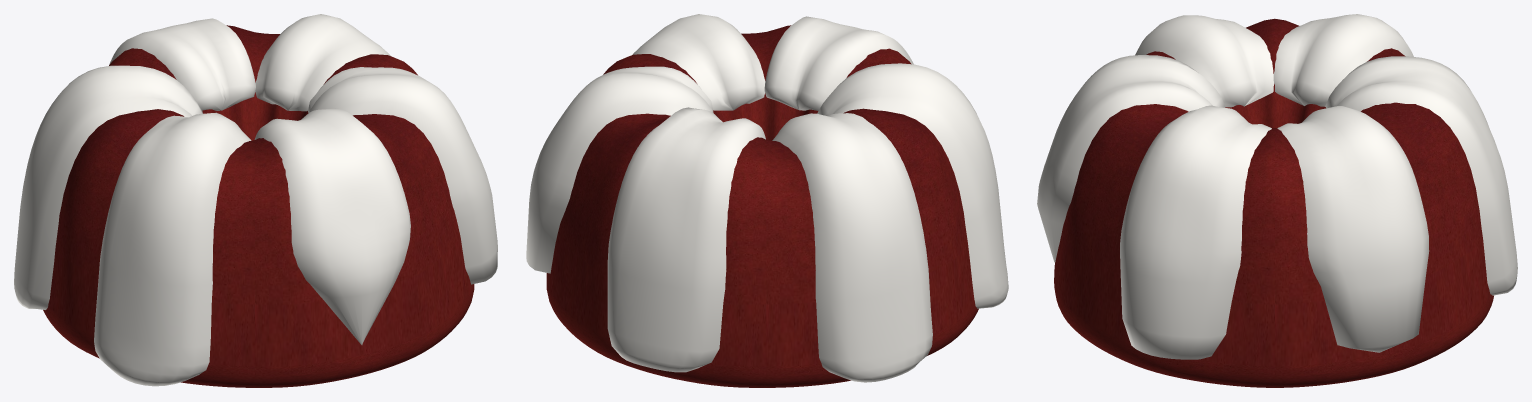
Rendered from bundtlet_redvelvet.glb.
The picture shows the model from 3 angles, left to right: view 1: azimuth 30°, elevation 25°; view 2: azimuth 150°, elevation 25°; view 3: azimuth 270°, elevation 25°; orthographic projection.
Parts seen in each view (by area): view 1: cake.001, frosting.003, frosting.004, frosting.002, frosting.005, frosting.001, frosting; view 2: cake.001, frosting.002, frosting.001, frosting.003, frosting, frosting.004, frosting.005; view 3: cake.001, frosting.005, frosting, frosting.001, frosting.004, frosting.002, frosting.003.
Boxes of the visible parts, x1,y1,x2,y2 form: cake.001: (43,25,474,387); frosting.003: (94,112,251,386); frosting.004: (254,108,410,344); frosting.002: (14,65,202,309); frosting.005: (308,67,497,284); frosting.001: (109,18,255,110); frosting: (255,14,390,111); cake.001: (546,25,978,387); frosting.002: (772,113,932,382); frosting.001: (607,107,765,372); frosting.003: (817,63,1008,308); frosting: (526,66,713,273); frosting.004: (764,16,913,110); frosting.005: (632,14,765,110); cake.001: (1054,18,1493,387); frosting.005: (1120,105,1271,359); frosting: (1277,106,1429,352); frosting.001: (1325,56,1517,295); frosting.004: (1037,55,1225,262); frosting.002: (1273,14,1413,106); frosting.003: (1135,15,1273,107).
Bounding box in the file's own units: 0.105 × 0.0603 × 0.1118.
2 materials, 1 textured.
